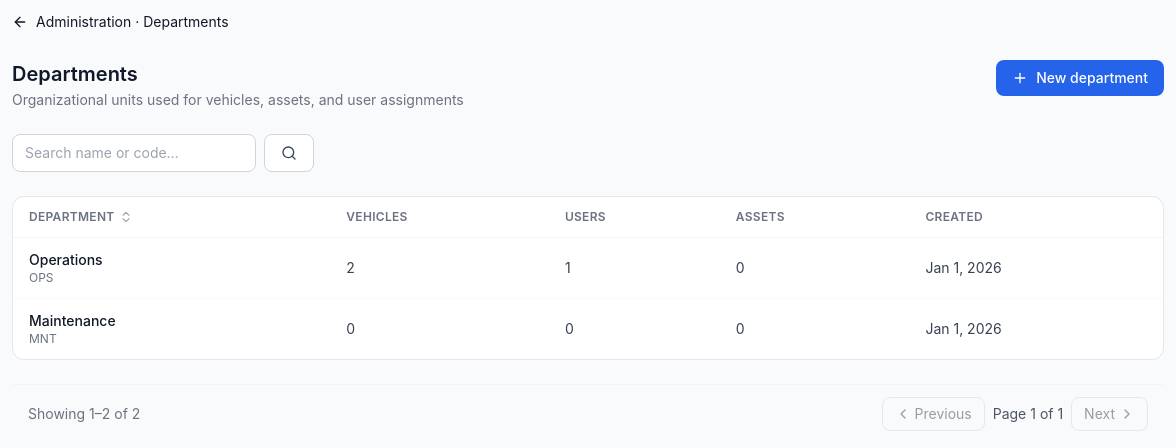
Test: DepartmentsPage › filters departments by search
The image size is (1176, 448).
Expected: the text "Operations" is shown, [29,251,103,268]
In the field named "search departments": [134, 153] box [12,134,256,172], type "Maintenance"
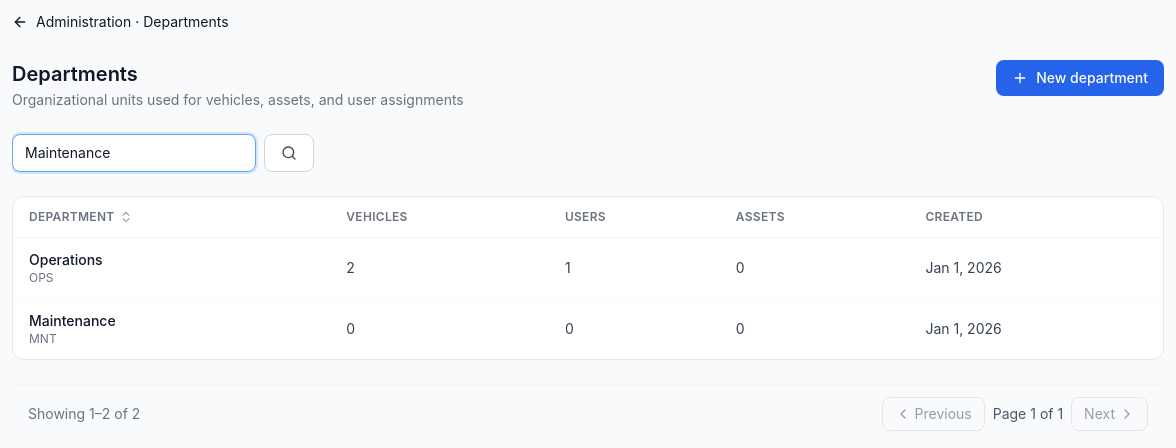
Click the 2nd button: [289, 153] box [264,134,314,172]
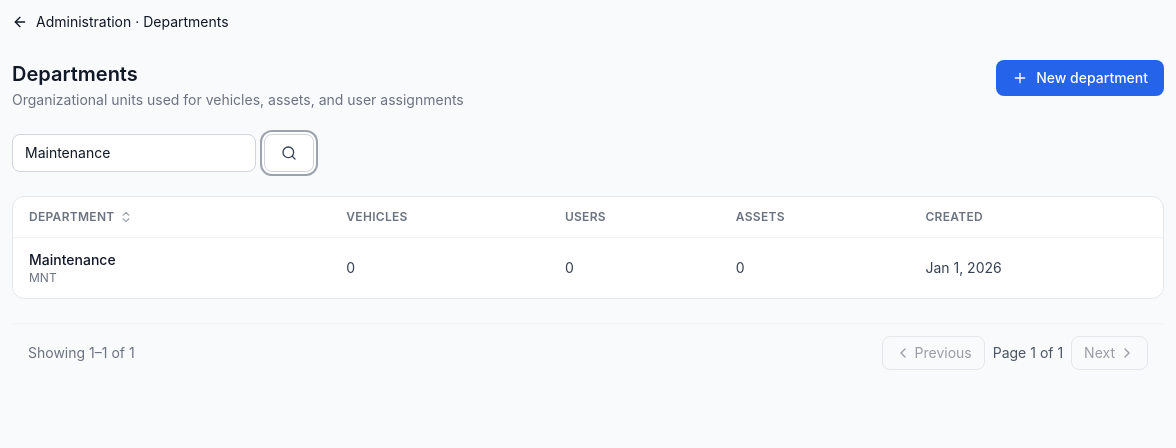
Expected: the text "Maintenance" is shown, [29,251,116,268]
Result: the text "Operations" is gone
